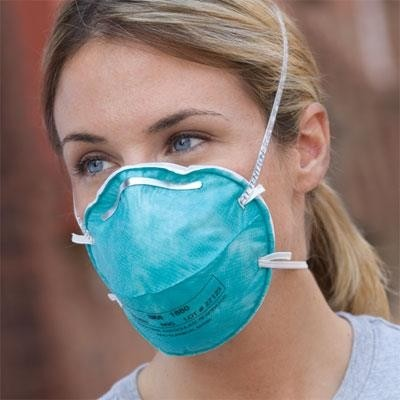face_mask: (56, 67, 275, 357)
